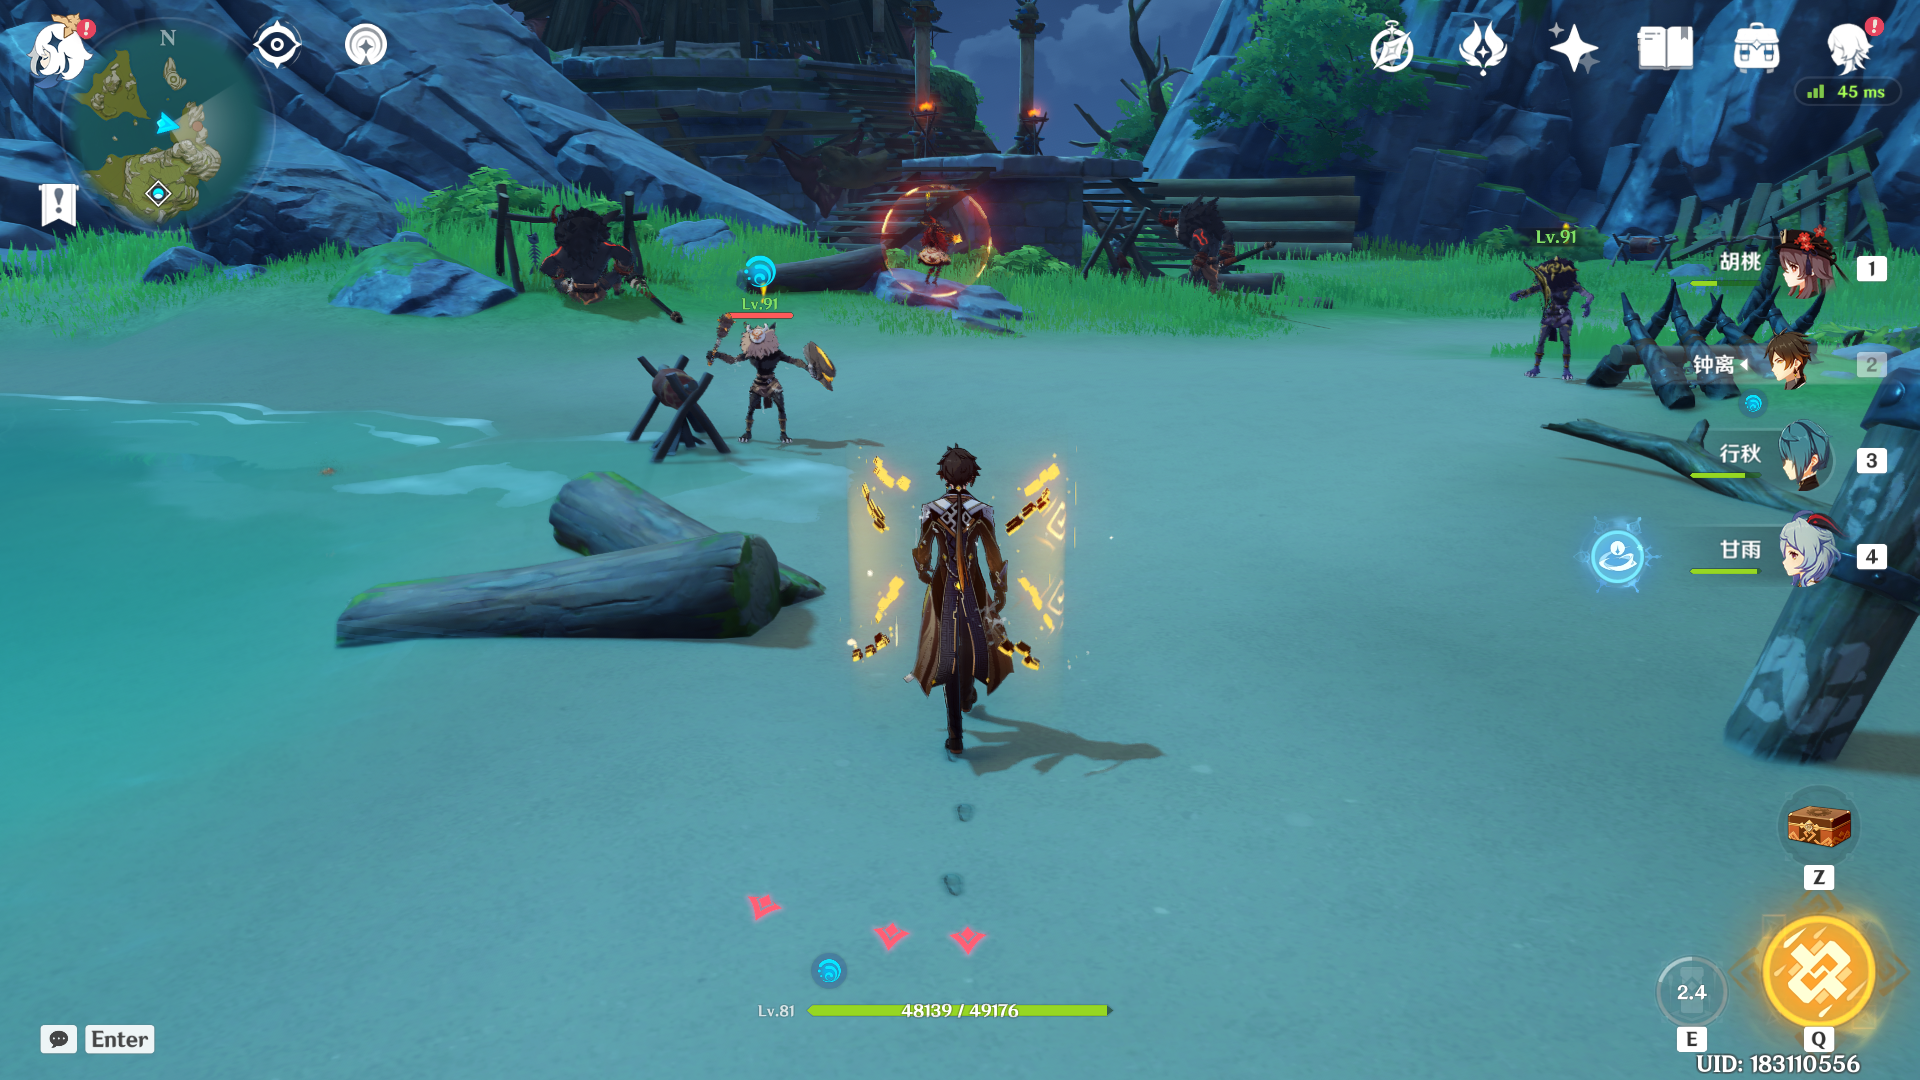bighili: (516, 198, 626, 309)
caster: (876, 191, 998, 307)
character: (841, 419, 1104, 827)
hili: (694, 299, 880, 475), (1513, 219, 1611, 419)
